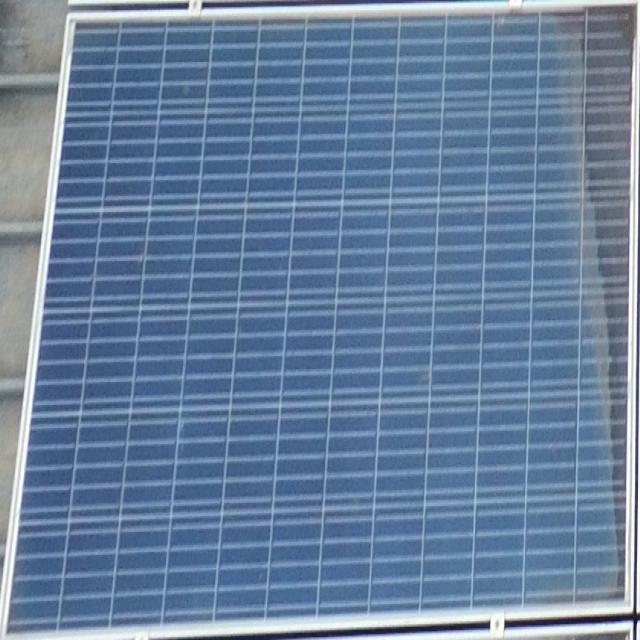Dust: (547, 9, 638, 614)
